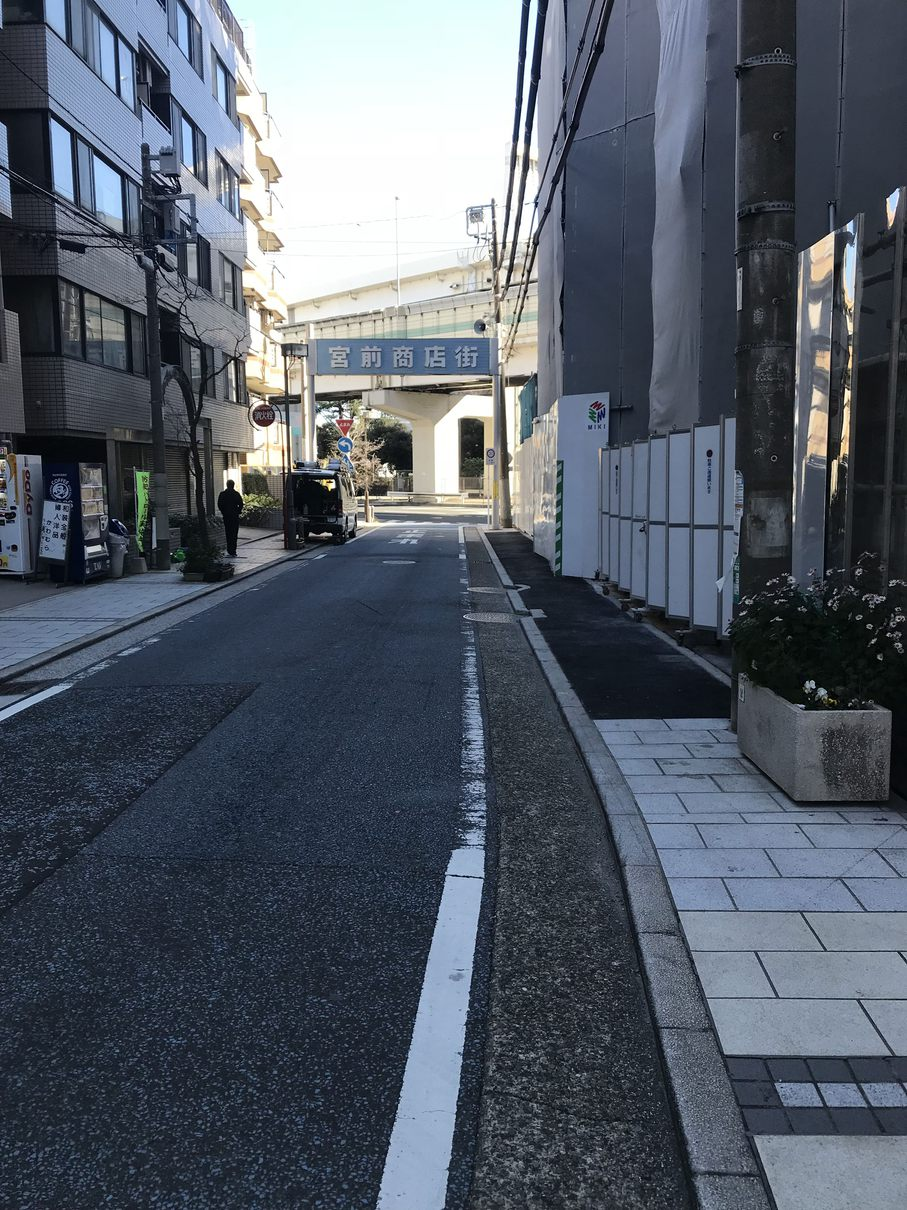stop_sign: (335, 416, 353, 436)
